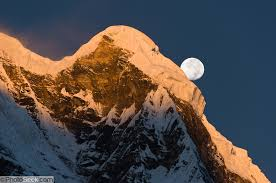moon: (179, 56, 205, 81)
